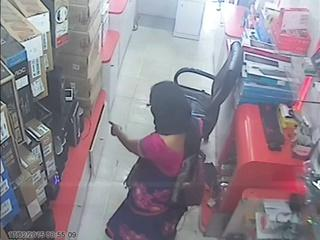Normal: (104, 81, 204, 240)
